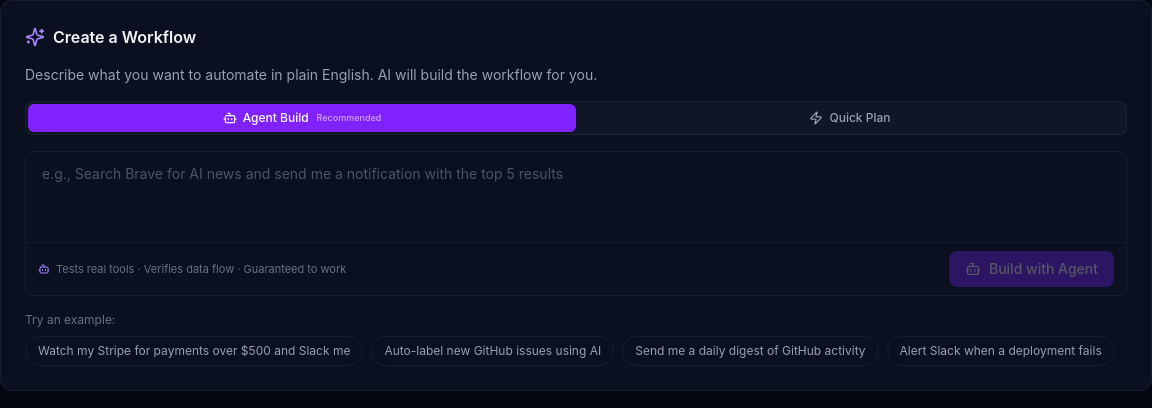
WorkflowCreator › renders Quick Plan textarea after mode switch
Click the button "Quick Plan" at (850, 118), box [576,104,1124,132]
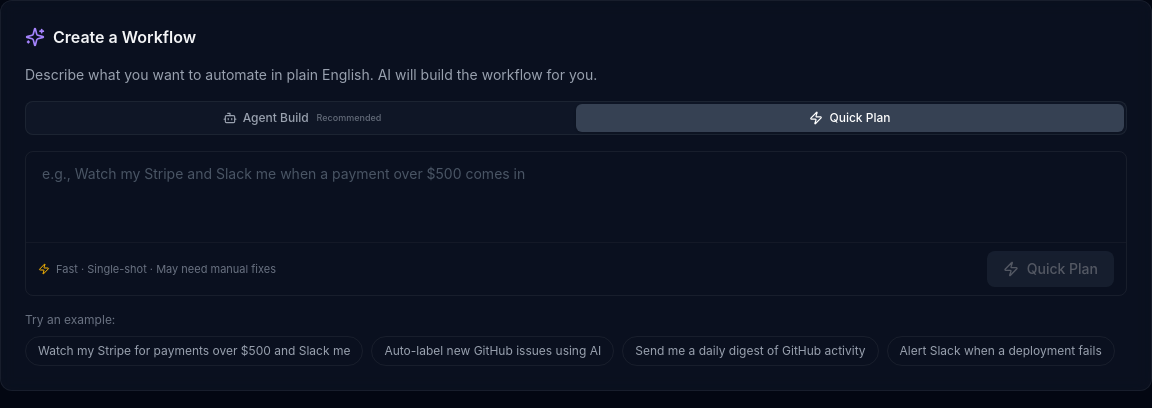
Check: the text box with placeholder "Watch my Stripe" is shown, box [26,152,1126,236]
